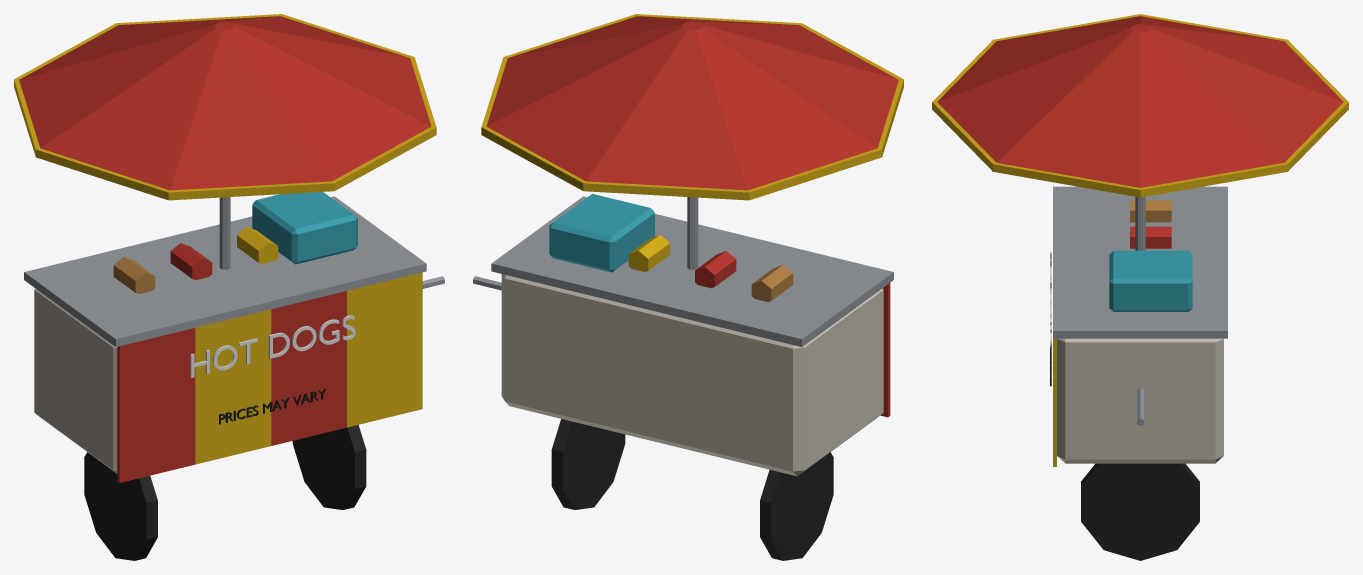
The model's file is hotdog_cart.glb.
3 renders of one model, left to right at view 1: azimuth 30°, elevation 25°; view 2: azimuth 150°, elevation 25°; view 3: azimuth 270°, elevation 25°, orthographic. The views are drawn at different scales.
Parts seen in each view (by area): view 1: hotdog_cart; view 2: hotdog_cart; view 3: hotdog_cart.
Boxes of the visible parts, left/top/right/bottom form: hotdog_cart: left=14, top=14, right=444, bottom=560; hotdog_cart: left=473, top=14, right=903, bottom=560; hotdog_cart: left=932, top=14, right=1348, bottom=560.
Size of what is drawn, in the model's own units: 2.15 by 2.55 by 2.
